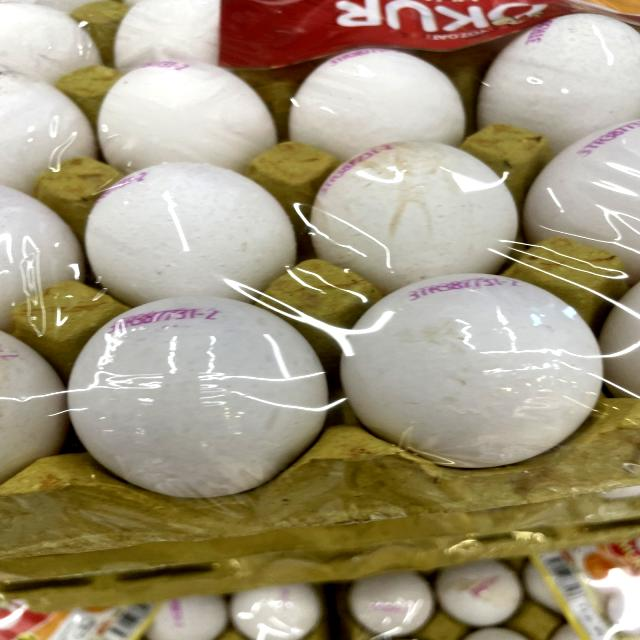egg: (338, 265, 618, 478), (65, 281, 327, 502), (312, 132, 531, 288), (79, 157, 297, 304), (468, 2, 640, 148), (94, 47, 278, 178), (288, 35, 479, 159)
